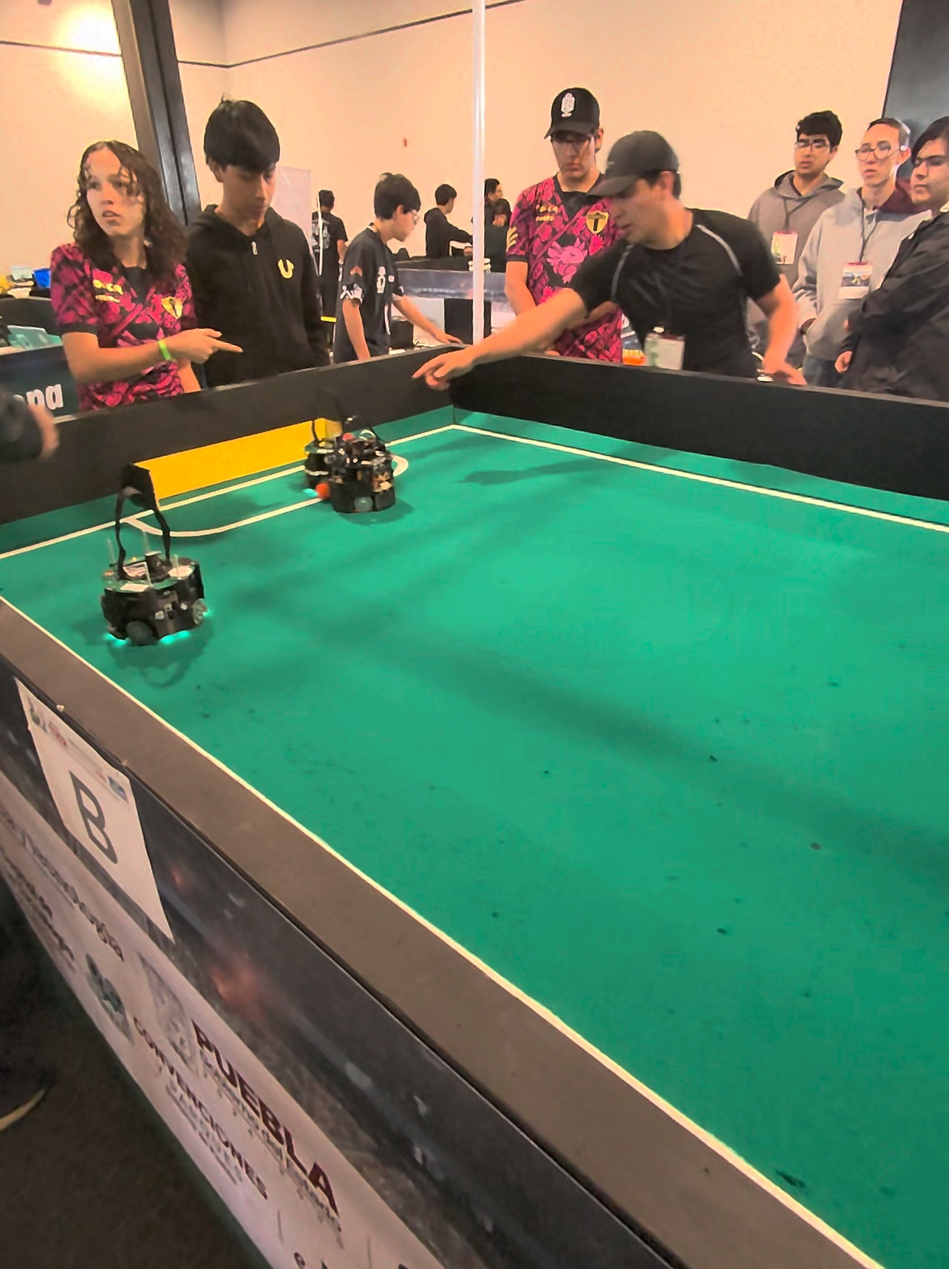Robot: (92, 463, 217, 669), (300, 410, 398, 518)
